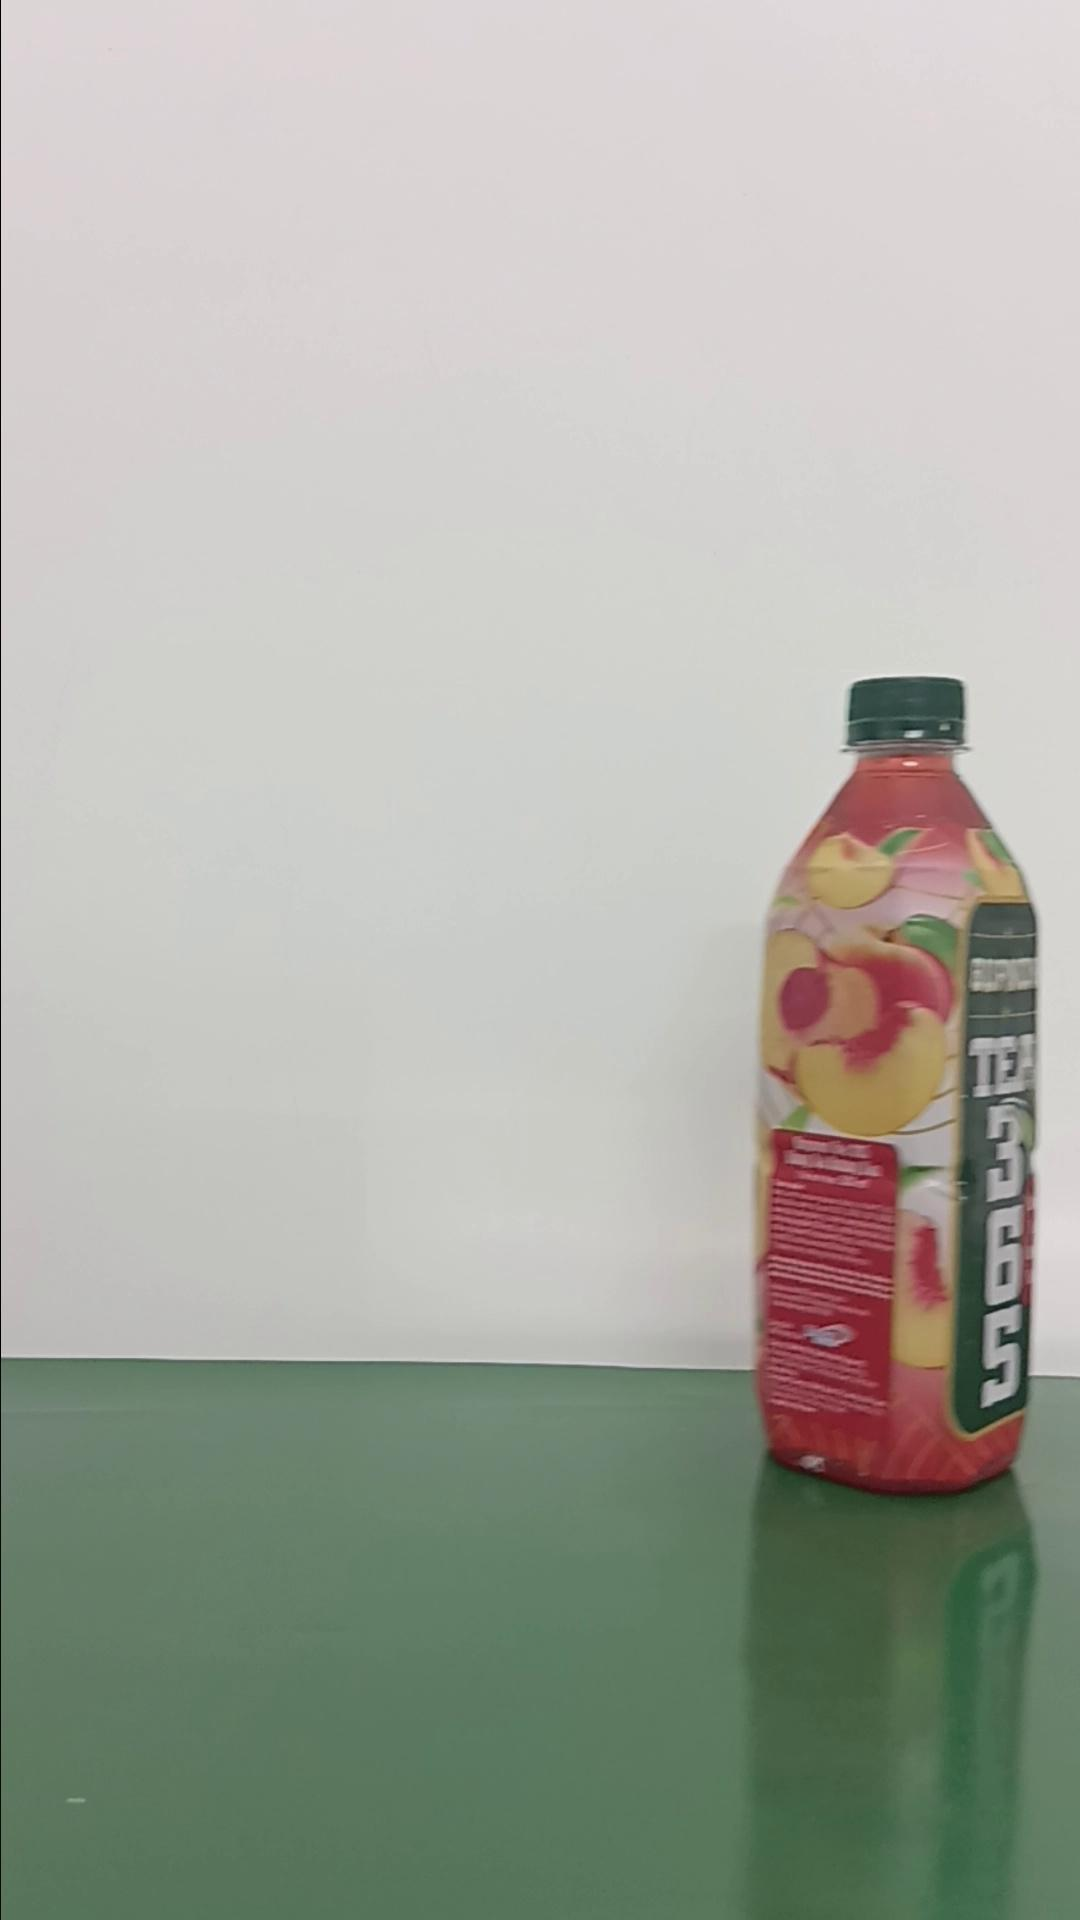khong loi: (749, 671, 1040, 1495)
